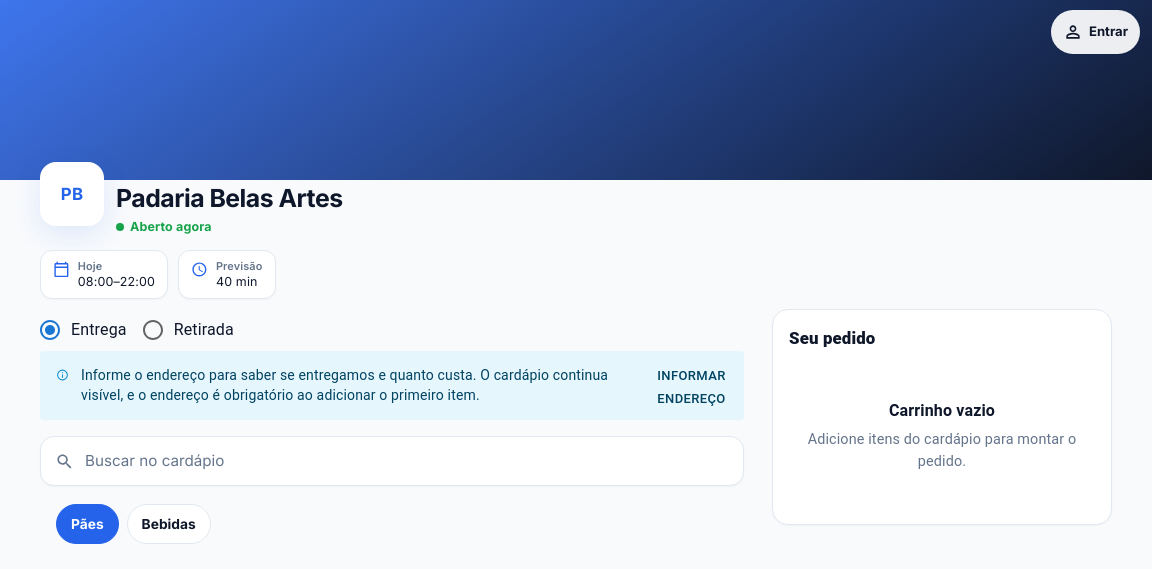
PublicDelivery › mantém o aviso de retirada quando a loja não cadastrou endereço
Step 1. Click the radio button labelled "Retirada" → point(187, 330), box [141,318,234,342]
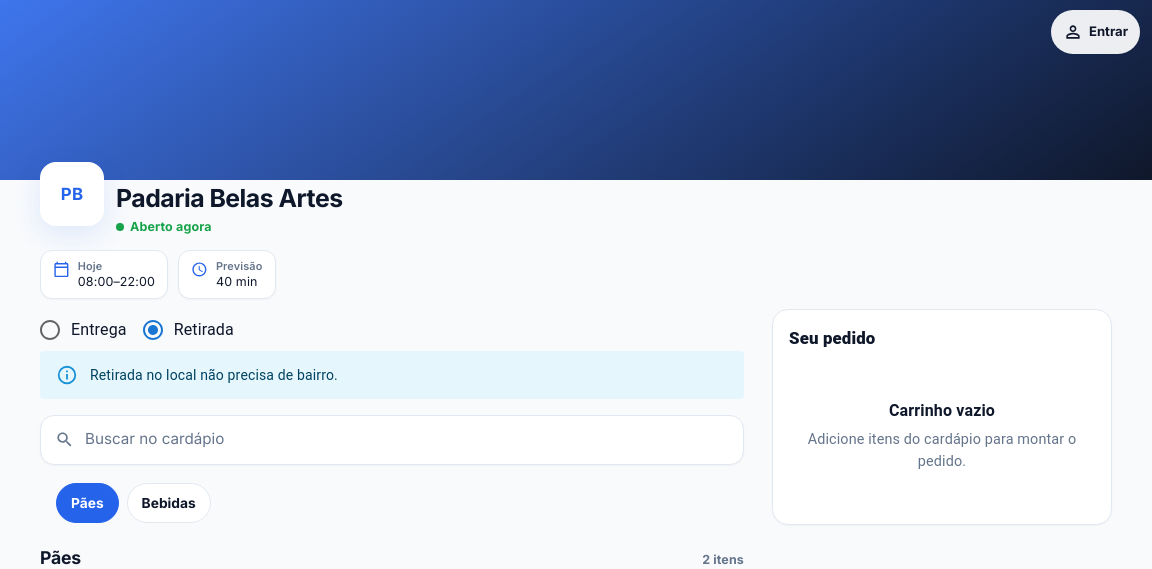
Result: the text "Retirada no local não precisa de bairro." is shown at [90,367,338,383]
